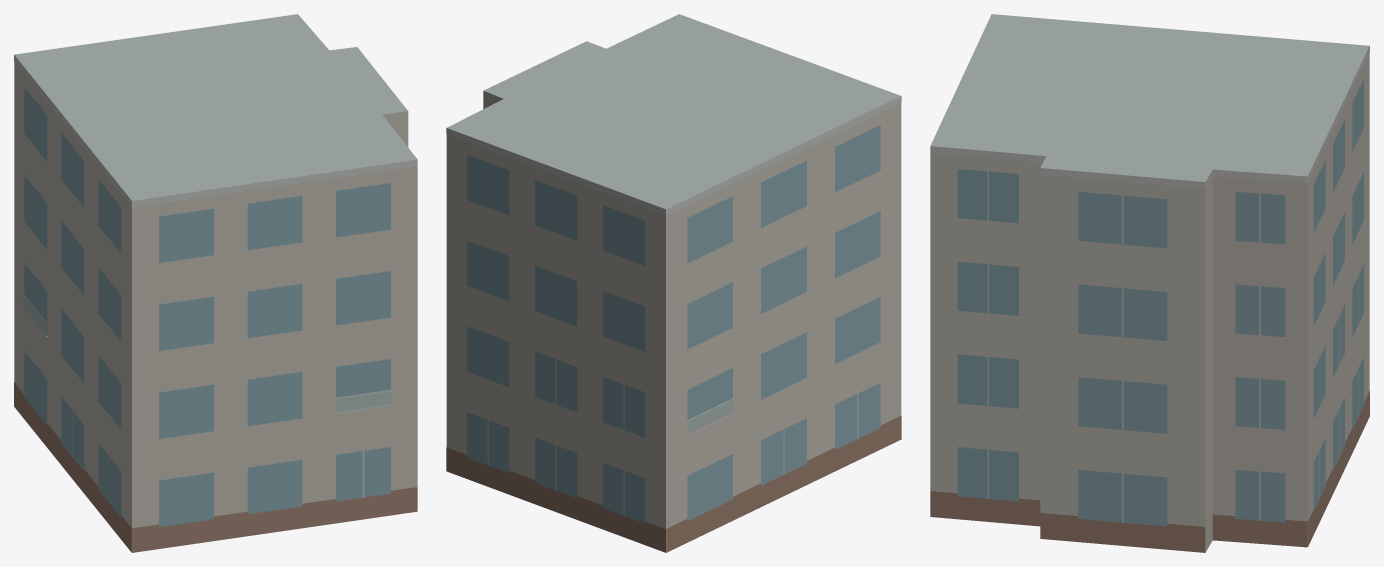
File: survey-upis-32664231.glb
The picture shows the model from 3 angles, left to right: view 1: azimuth 30°, elevation 25°; view 2: azimuth 150°, elevation 25°; view 3: azimuth 270°, elevation 25°; orthographic projection. The views are drawn at different scales.
Visible parts, largest first — view 1: survey-upis-32664231.tmp; view 2: survey-upis-32664231.tmp; view 3: survey-upis-32664231.tmp.
Boxes of the visible parts, x1,y1,x2,y2 form: survey-upis-32664231.tmp: [14, 14, 417, 552]; survey-upis-32664231.tmp: [446, 14, 901, 552]; survey-upis-32664231.tmp: [930, 14, 1369, 552].
Bounding box in the file's own units: 12.45 × 12.8 × 13.76.
